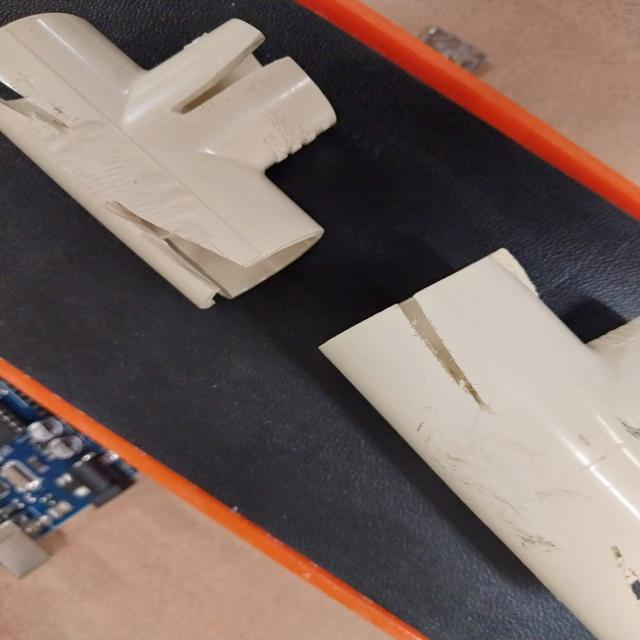Defective: (112, 197, 247, 312), (402, 302, 484, 418), (0, 75, 93, 153), (498, 253, 538, 302), (613, 412, 640, 470)
T Joint: (320, 238, 633, 640), (0, 13, 337, 310)
